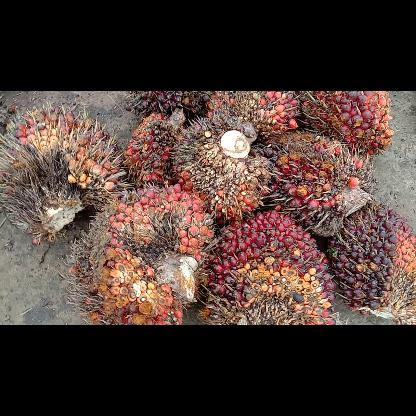TBS masak: (67, 184, 213, 324), (0, 109, 126, 237), (204, 210, 342, 324), (259, 131, 373, 233), (324, 196, 414, 324), (174, 114, 278, 218), (302, 92, 396, 156), (202, 90, 300, 142), (124, 112, 188, 190), (127, 91, 207, 119)
